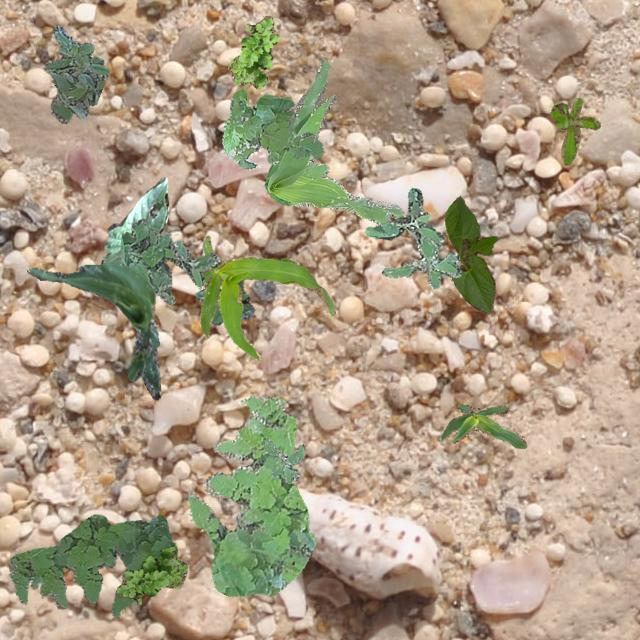crop: (28, 262, 160, 398), (200, 234, 334, 360), (444, 194, 496, 314), (100, 176, 168, 264), (438, 402, 526, 448)
weed: (188, 394, 316, 596), (263, 56, 403, 224), (8, 514, 176, 616), (364, 186, 461, 288), (120, 218, 220, 304), (222, 88, 322, 168), (44, 24, 108, 122), (115, 546, 187, 604), (228, 15, 278, 89), (550, 96, 600, 164), (194, 278, 254, 324), (262, 438, 304, 482)
